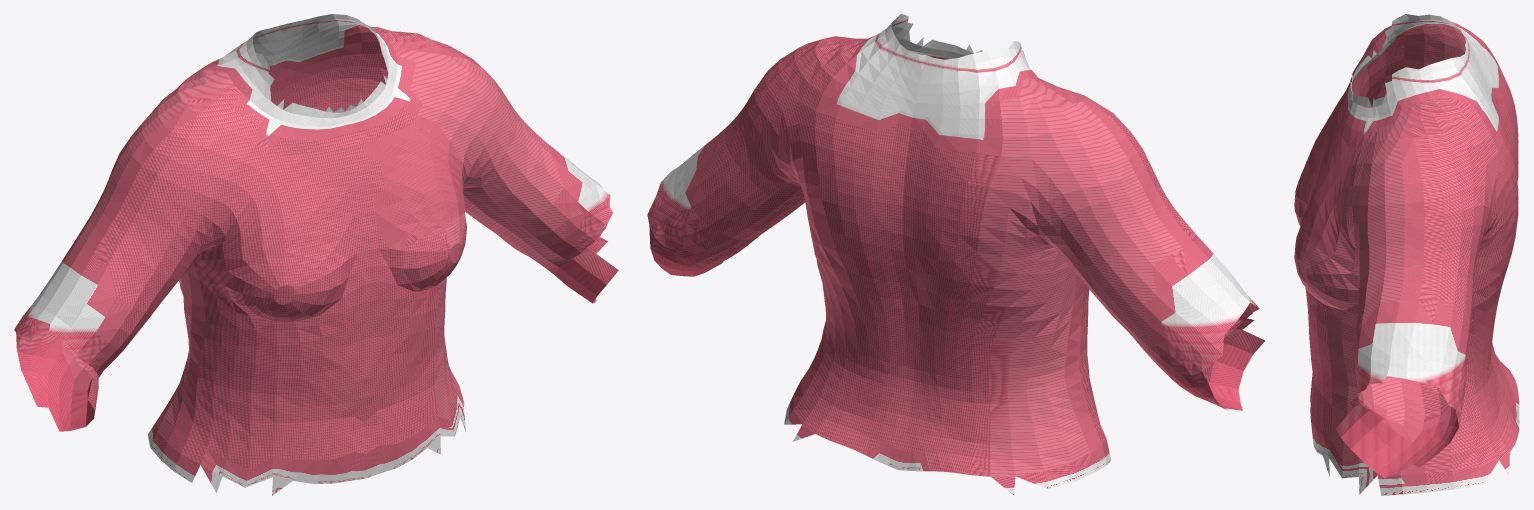
Rendered from TSH-WW-CREW-001.glb.
3 renders of one model, left to right at view 1: azimuth 30°, elevation 25°; view 2: azimuth 150°, elevation 25°; view 3: azimuth 270°, elevation 25°, orthographic. The views are drawn at different scales.
Visible parts, largest first — view 1: geometry_0; view 2: geometry_0; view 3: geometry_0.
Part boxes in pixels (x1,y1,x2,y2): geometry_0: [14, 14, 618, 495]; geometry_0: [647, 14, 1265, 495]; geometry_0: [1294, 14, 1519, 495].
Size of the model in its own units: 0.6869 by 0.4749 by 0.2437.
Materials: 1 (1 with a texture image).
